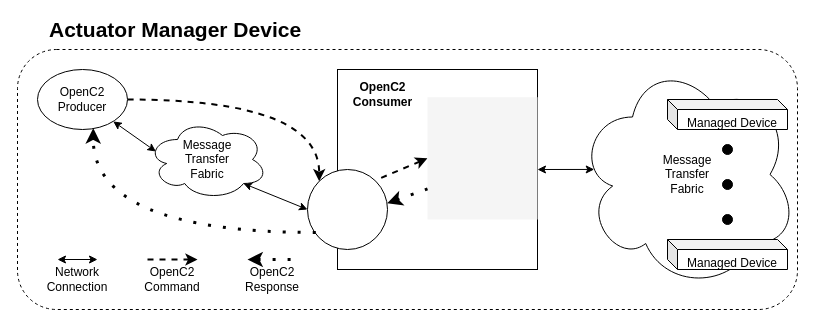
The diagram is 815 pixels wide and 327 high, and some of its shapes have lost their labels. The shapes that lost their labels are listed below. From the top down, each one's centre as x and y in pixels, then its label:
At point 482,158: "Actuator Manager".
At point 347,209: "Device C2 I/F".
